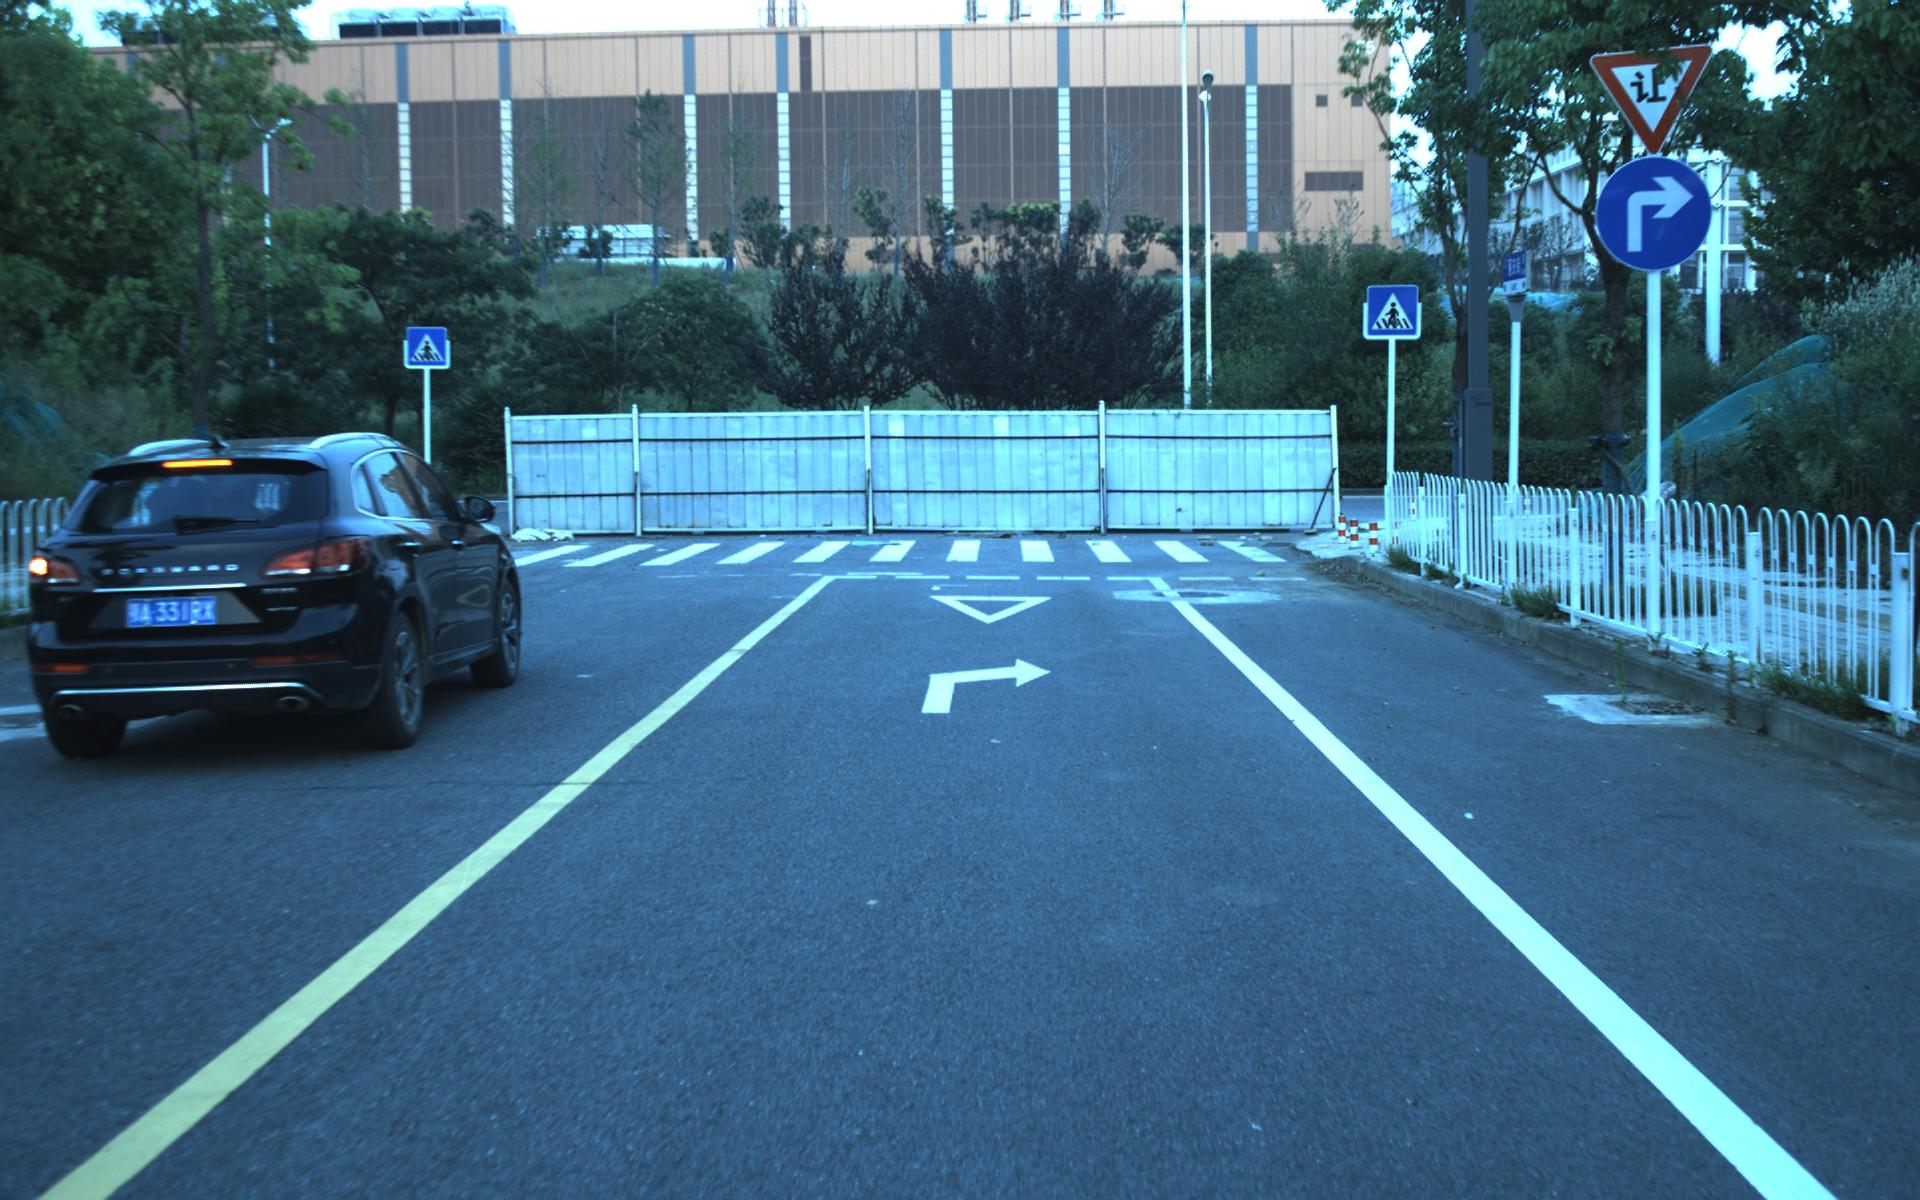Car: (10, 418, 531, 762)
